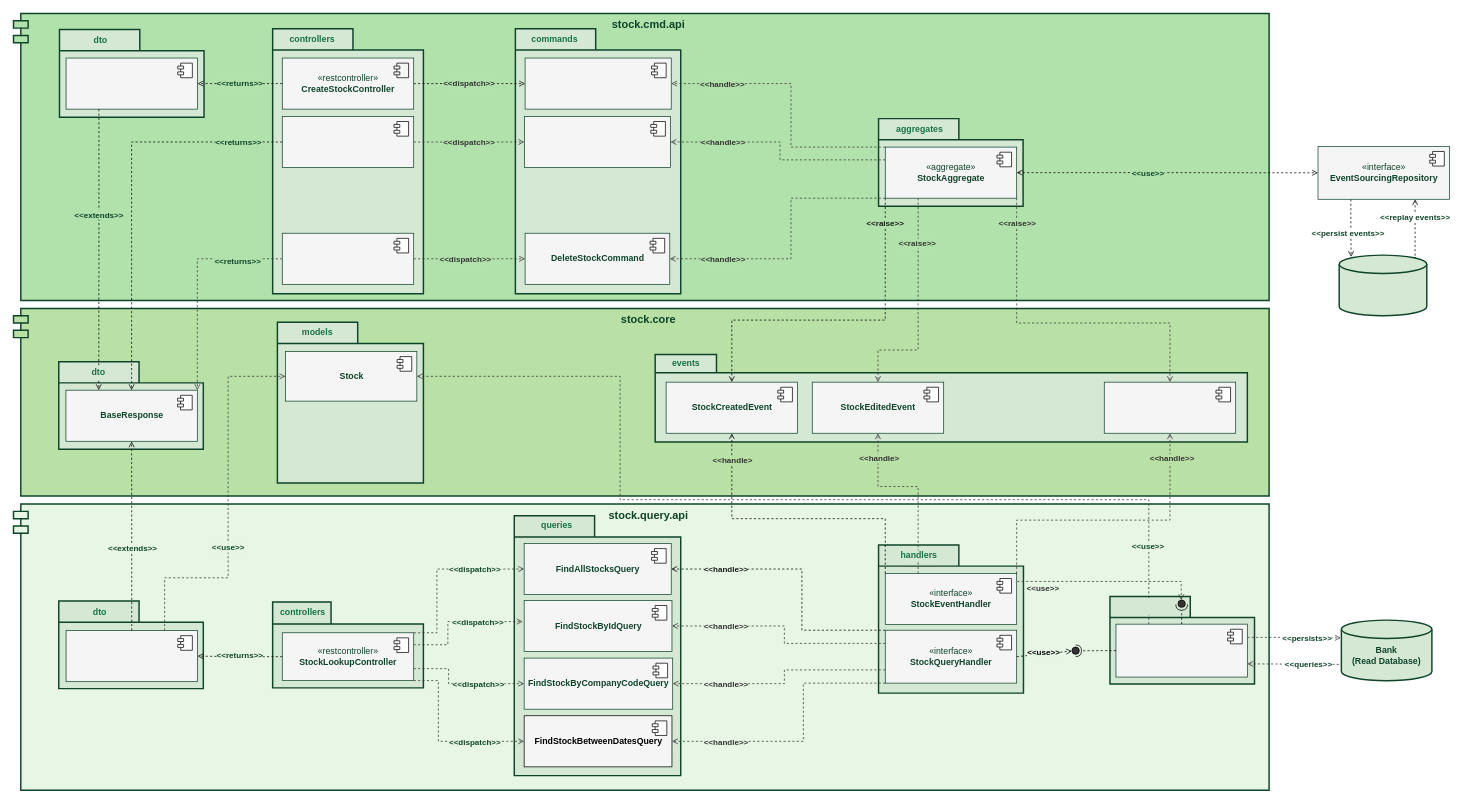
Image size: 1462x803. Some labels were removed from this diagram. Here are the shapes that lost their labels. From the top down, the centre of each, then its label:
point (131, 83): CreateStockResponse
point (597, 83): CreateStockCommand
point (348, 142): «restcontroller» EditStockController
point (597, 142): EditStockCommand
point (348, 258): «restcontroller» DeleteStockController
point (1382, 285): Event Store (Write Database)
point (1170, 407): StockDeletedEvent
point (1146, 607): repositories
point (131, 656): StockLookupResponse
point (1181, 650): «interface» StockRepository
